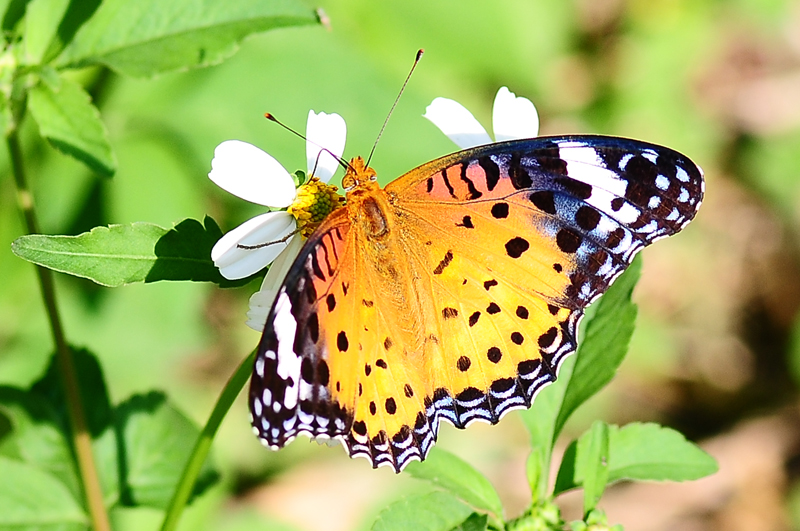Argyreus hyperbius: (243, 46, 707, 470)
butterfly: (245, 48, 709, 472)
